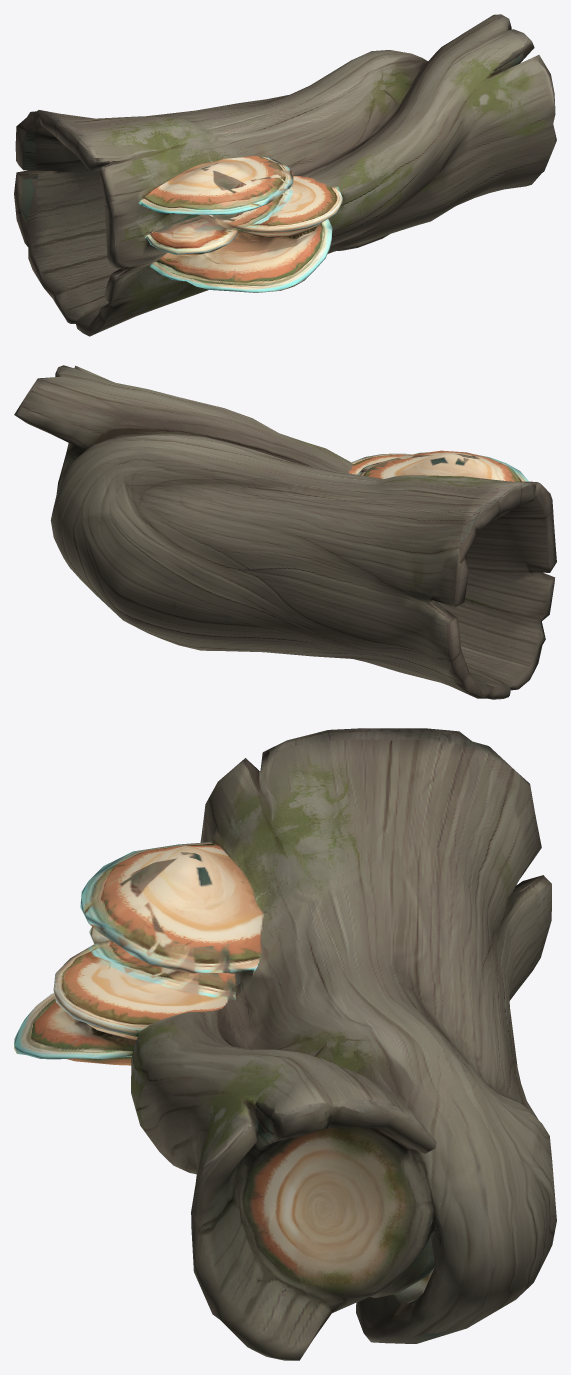
3 views of the same model, one above another, from view 1: azimuth 30°, elevation 25°; view 2: azimuth 150°, elevation 25°; view 3: azimuth 270°, elevation 25° (orthographic). The views are drawn at different scales.
Parts seen in each view (by area): view 1: Mesh_0; view 2: Mesh_0; view 3: Mesh_0.
Boxes of the visible parts, x1,y1,x2,y2 form: Mesh_0: (14,14,556,336); Mesh_0: (14,365,556,699); Mesh_0: (14,728,556,1360).
Bounding box in the file's own units: 1.91 × 0.8056 × 1.13.
Materials: 1 (1 with a texture image).
